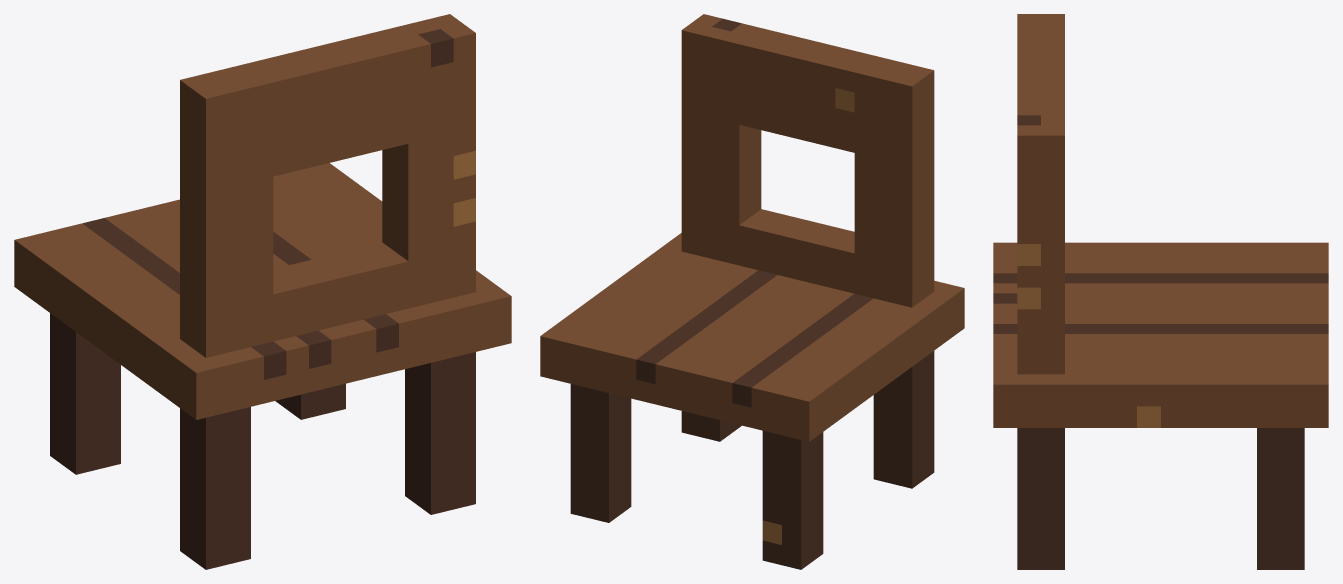
File: chair.obj
3 views of the same model, side by side, from view 1: azimuth 30°, elevation 25°; view 2: azimuth 150°, elevation 25°; view 3: azimuth 270°, elevation 25° (orthographic). The views are drawn at different scales.
Parts seen in each view (by area): view 1: chair; view 2: chair; view 3: chair.
Boxes of the visible parts, x1,y1,x2,y2 form: chair: (14, 14, 511, 569); chair: (540, 14, 964, 569); chair: (993, 14, 1328, 569).
Size of the model in its own units: 0.875 by 1.25 by 0.875.
Materials: 1 (1 with a texture image).
